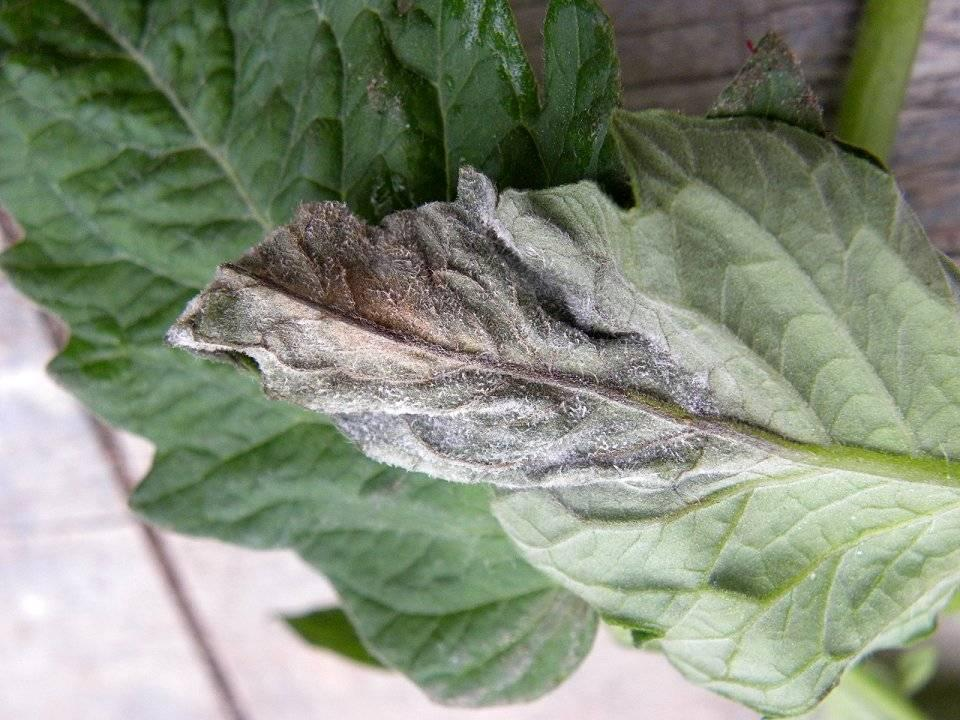Tomato leaf late blight: (153, 107, 954, 703)
